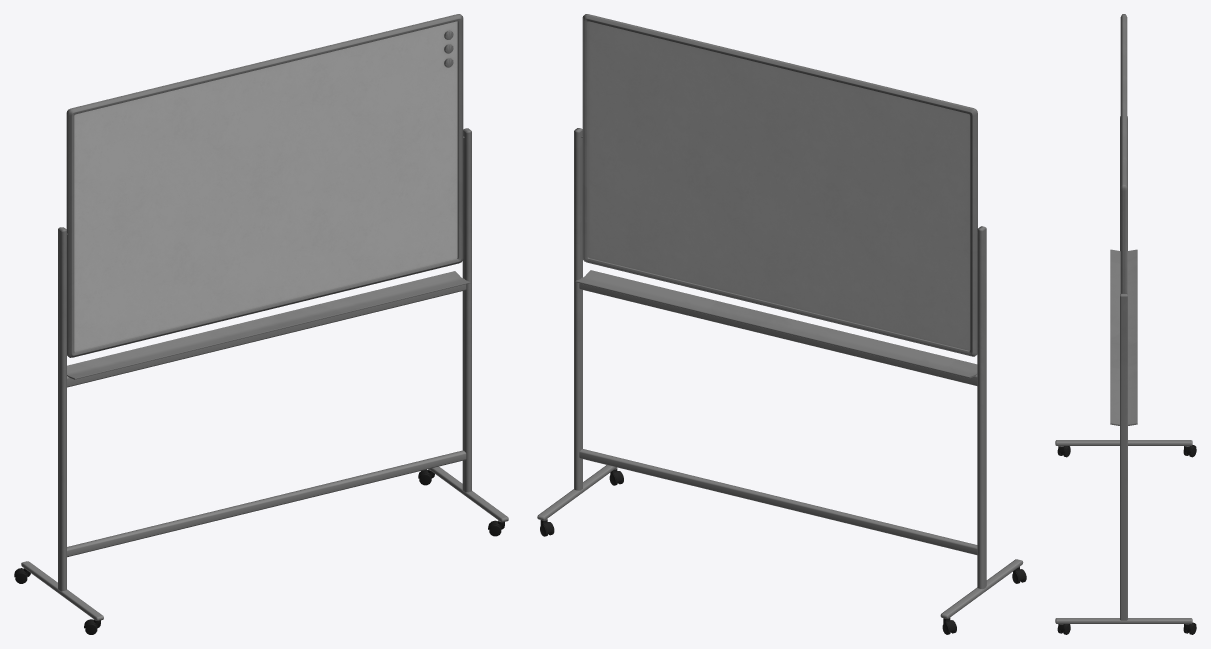
File: SM_Whiteboard_150_90.FBX
3 renders of one model, left to right at view 1: azimuth 30°, elevation 25°; view 2: azimuth 150°, elevation 25°; view 3: azimuth 270°, elevation 25°, orthographic. The views are drawn at different scales.
Parts seen in each view (by area): view 1: Whiteboard_150_90; view 2: Whiteboard_150_90; view 3: Whiteboard_150_90.
Boxes of the visible parts, x1,y1,x2,y2 form: Whiteboard_150_90: [14, 14, 508, 634]; Whiteboard_150_90: [537, 14, 1026, 634]; Whiteboard_150_90: [1055, 14, 1196, 634].
Bounding box in the file's own units: 159 × 180 × 51.46.
